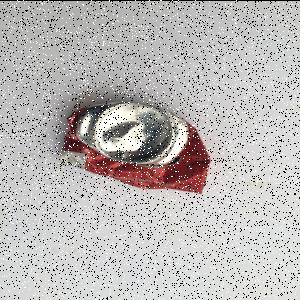Can: (59, 102, 212, 196)
